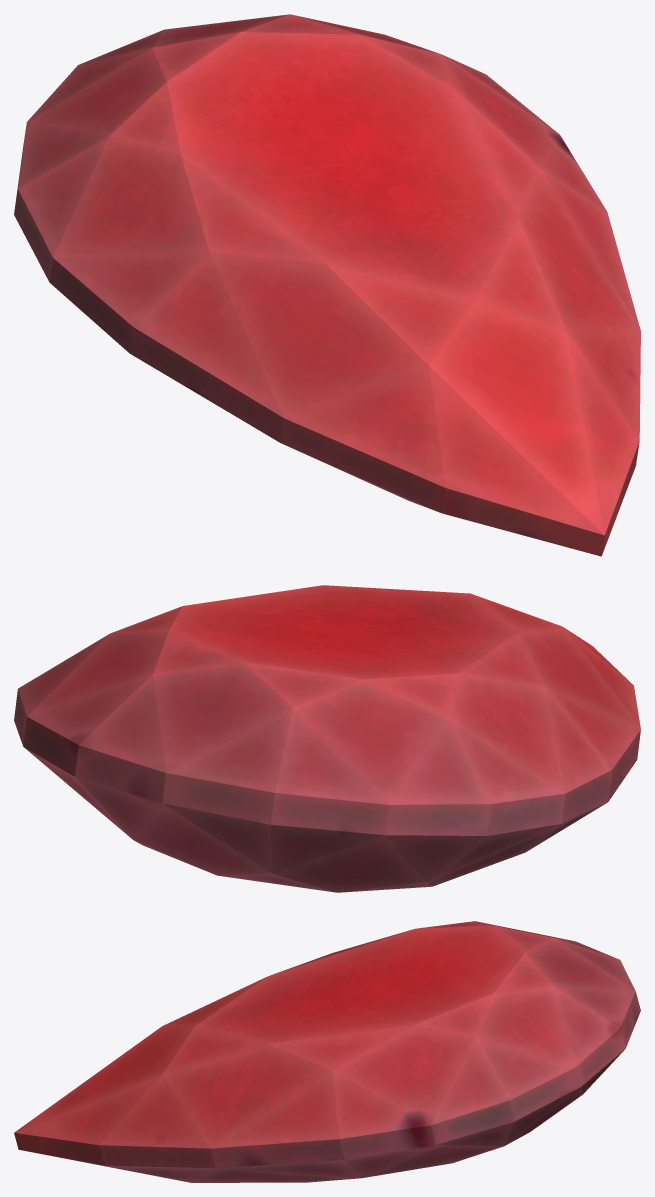
The model's file is ruby.glb.
3 renders of one model, top to bottom at view 1: azimuth 30°, elevation 25°; view 2: azimuth 150°, elevation 25°; view 3: azimuth 270°, elevation 25°, orthographic. The views are drawn at different scales.
Visible parts, largest first — view 1: Object_23; view 2: Object_23; view 3: Object_23.
Part boxes in pixels (x1,y1,x2,y2): Object_23: (14,14,640,556); Object_23: (14,585,640,892); Object_23: (14,921,640,1182).
Bounding box in the file's own units: 0.7537 × 0.4175 × 1.12.
Materials: 1 (1 with a texture image).
